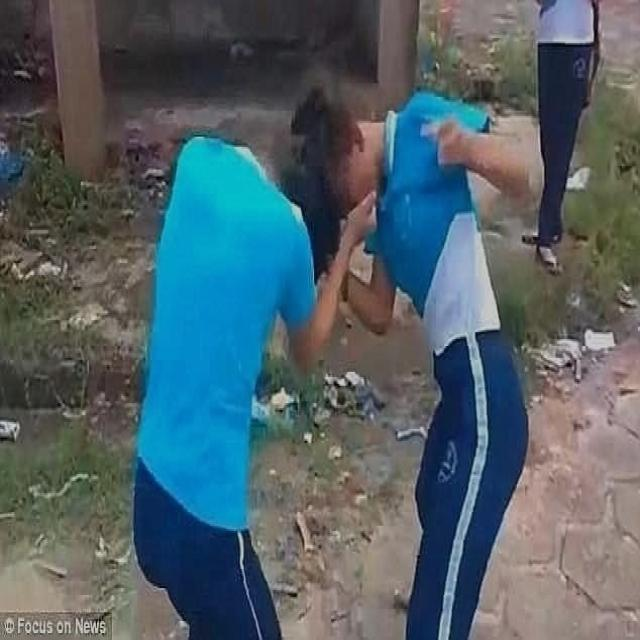fight: (123, 83, 562, 633)
